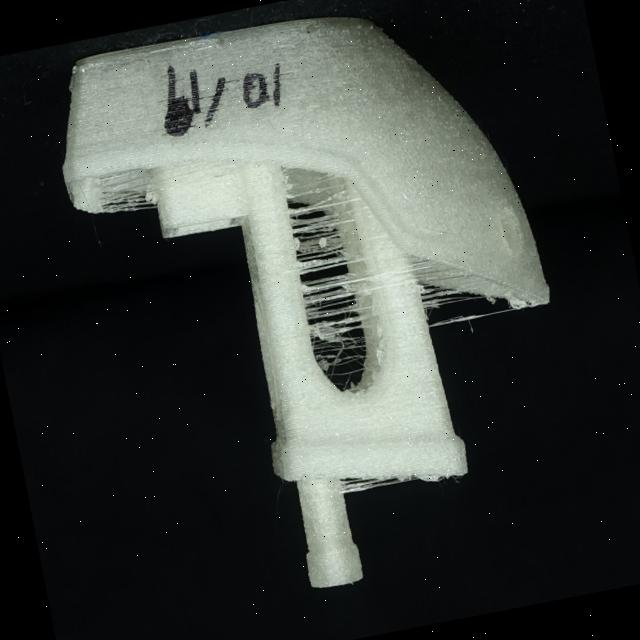stringing: (271, 178, 380, 380)
